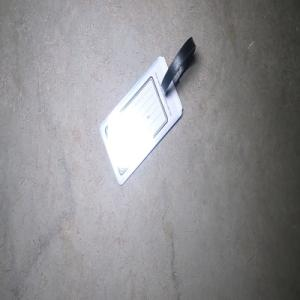LuggageTag: (98, 35, 196, 187)
